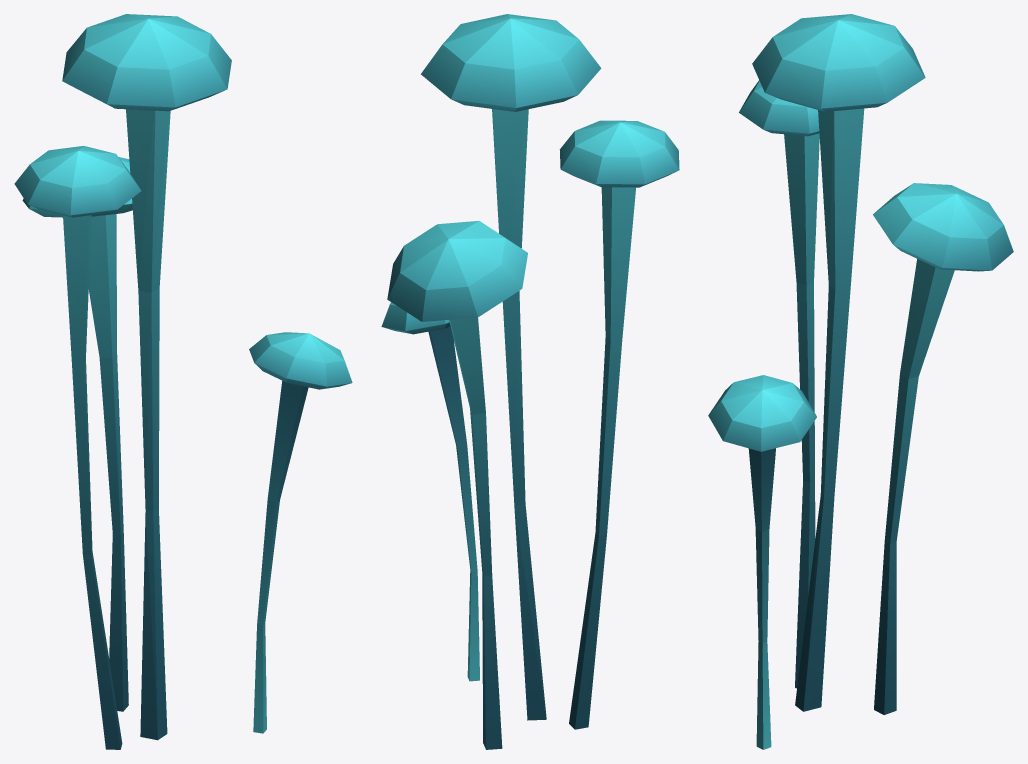
The model's file is ZLPC_Mushroom_A_8.FBX.
3 renders of one model, left to right at view 1: azimuth 30°, elevation 25°; view 2: azimuth 150°, elevation 25°; view 3: azimuth 270°, elevation 25°, orthographic. The views are drawn at different scales.
Parts seen in each view (by area): view 1: ZLPC_Mushroom_A_8; view 2: ZLPC_Mushroom_A_8; view 3: ZLPC_Mushroom_A_8.
Part boxes in pixels (bbox=[...]): ZLPC_Mushroom_A_8: bbox=[14, 14, 352, 749]; ZLPC_Mushroom_A_8: bbox=[381, 14, 679, 749]; ZLPC_Mushroom_A_8: bbox=[708, 14, 1013, 749].
Bounding box in the file's own units: 65.45 × 145 × 57.89.
